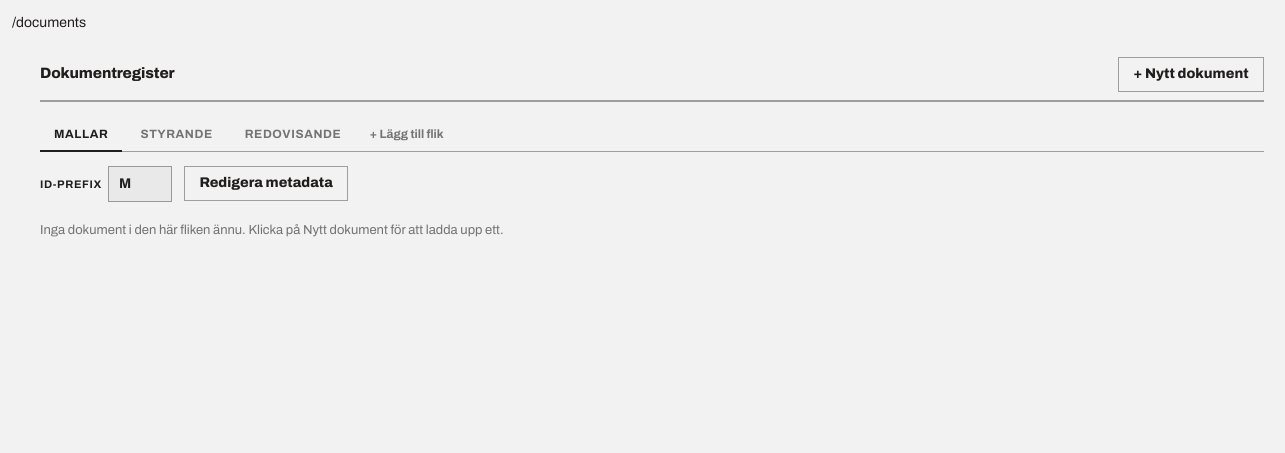
Test: adding a document › opens and closes the form on the same button
Click the button "+ Nytt dokument".
click(1191, 74)  # box [1118,57,1264,92]
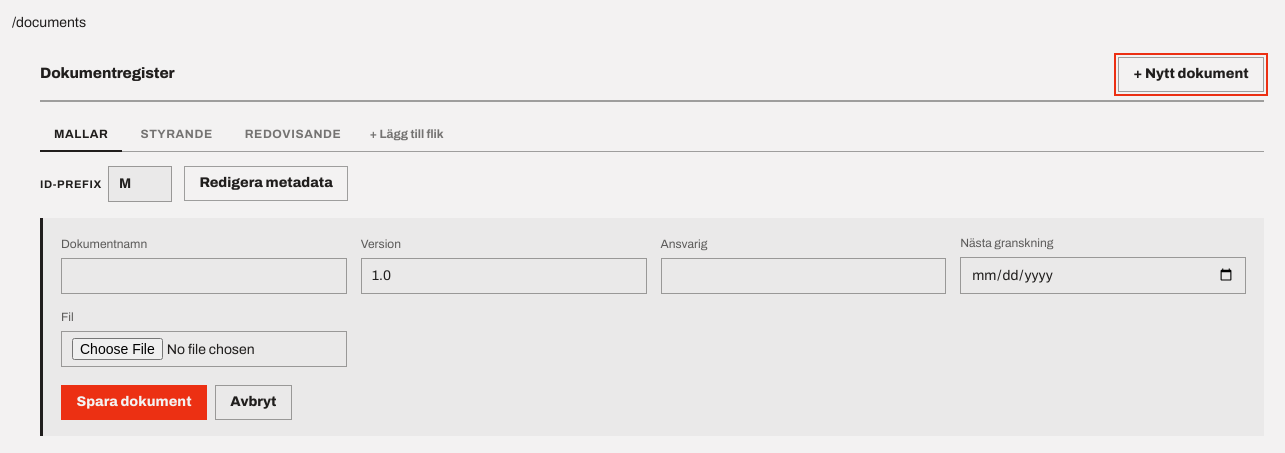
Now the field labelled "Dokumentnamn" is shown, box [61,258,347,294]
Click the button "+ Nytt dokument".
click(1191, 74)  # box [1118,57,1264,92]
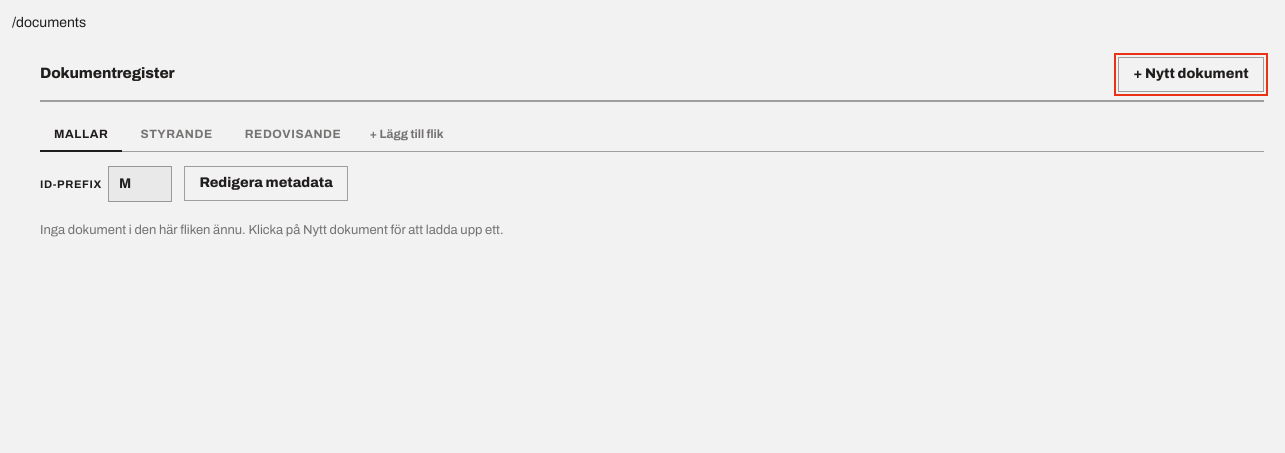
Now the label labelled "Dokumentnamn" is gone
